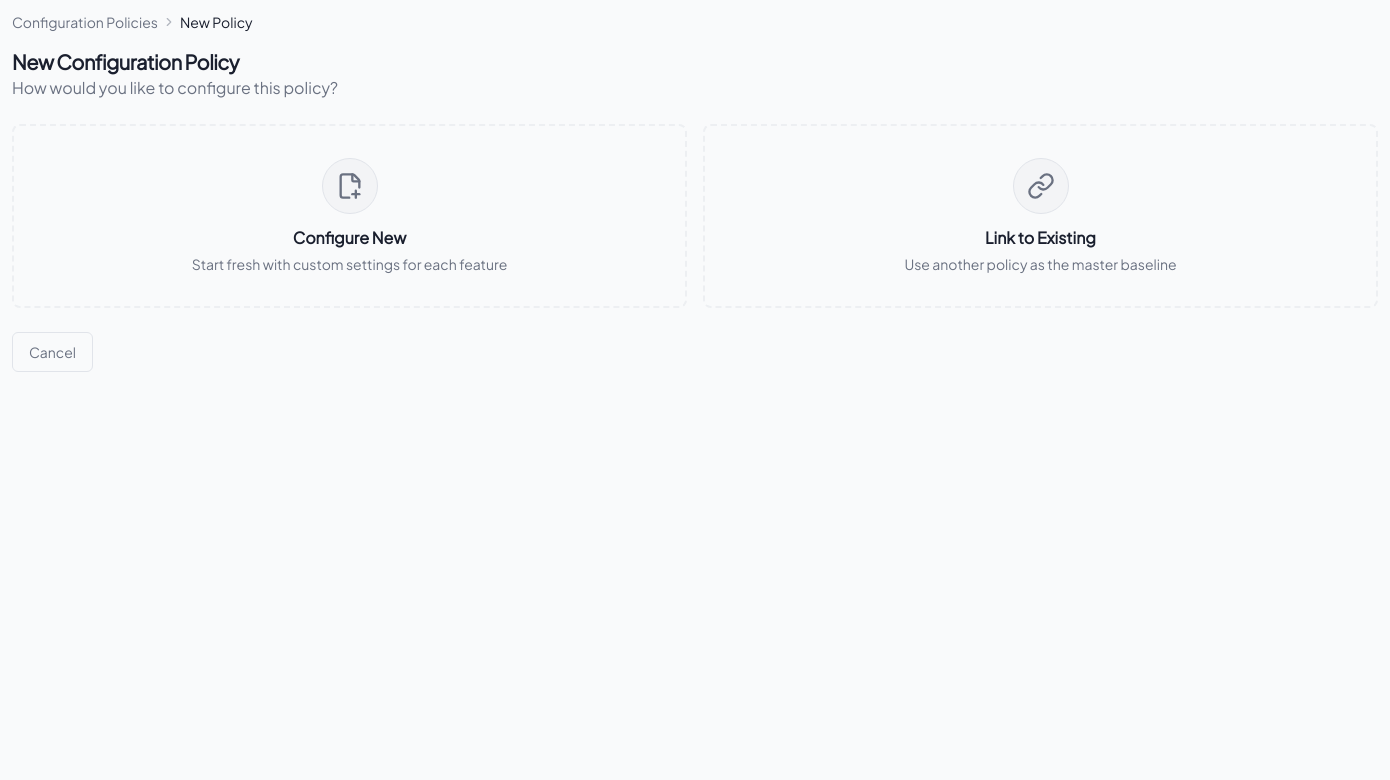
Test: ConfigPolicyCreatePage — owner scope (#1724) › associates the policy-detail labels with their inputs (a11y, #2609)
Click the text "Configure New": {"x": 350, "y": 238} x1=293 y1=227 x2=406 y2=248
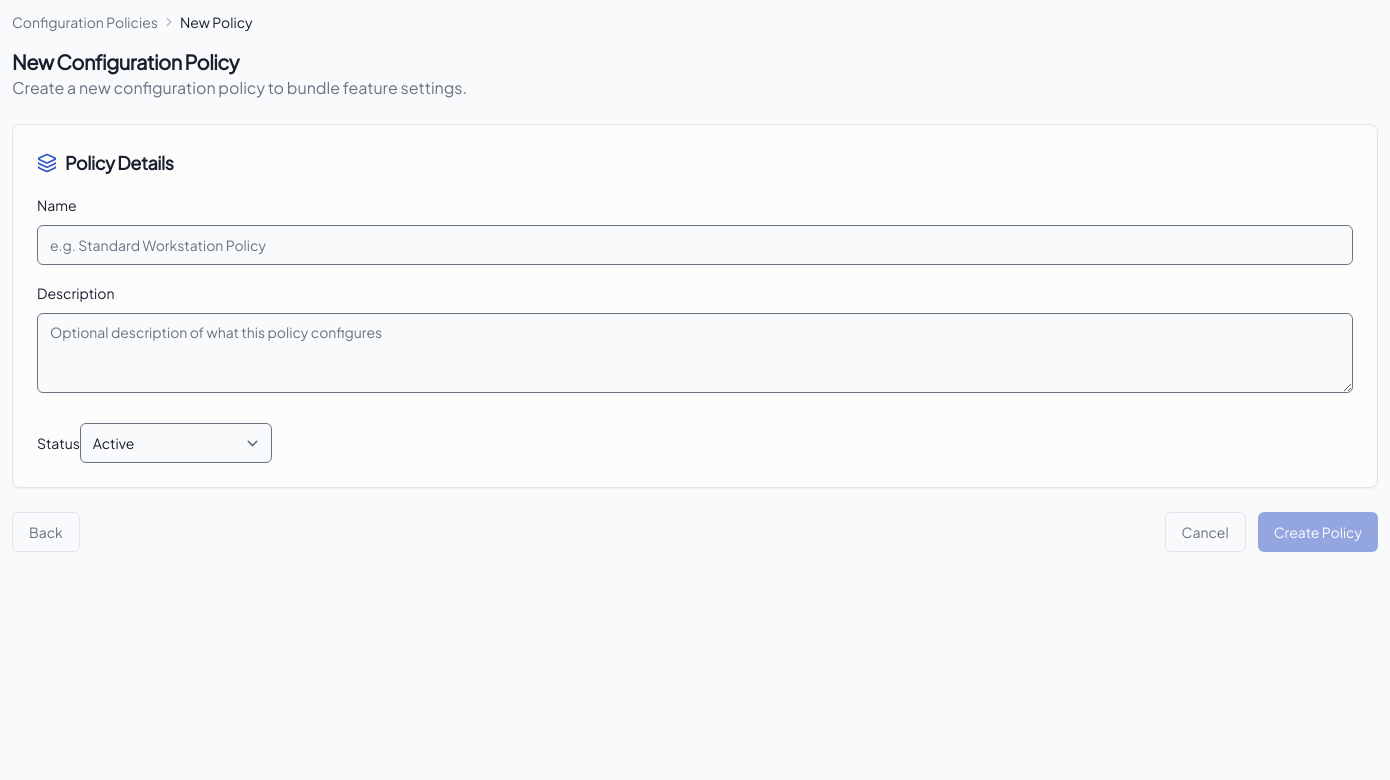
Check: the field labelled "Name" is shown, box x1=37 y1=225 x2=1353 y2=265
Check: the text box labelled "Description" is shown, box x1=37 y1=313 x2=1353 y2=393
Check: the dropdown labelled "Status" is shown, box x1=80 y1=423 x2=272 y2=463
